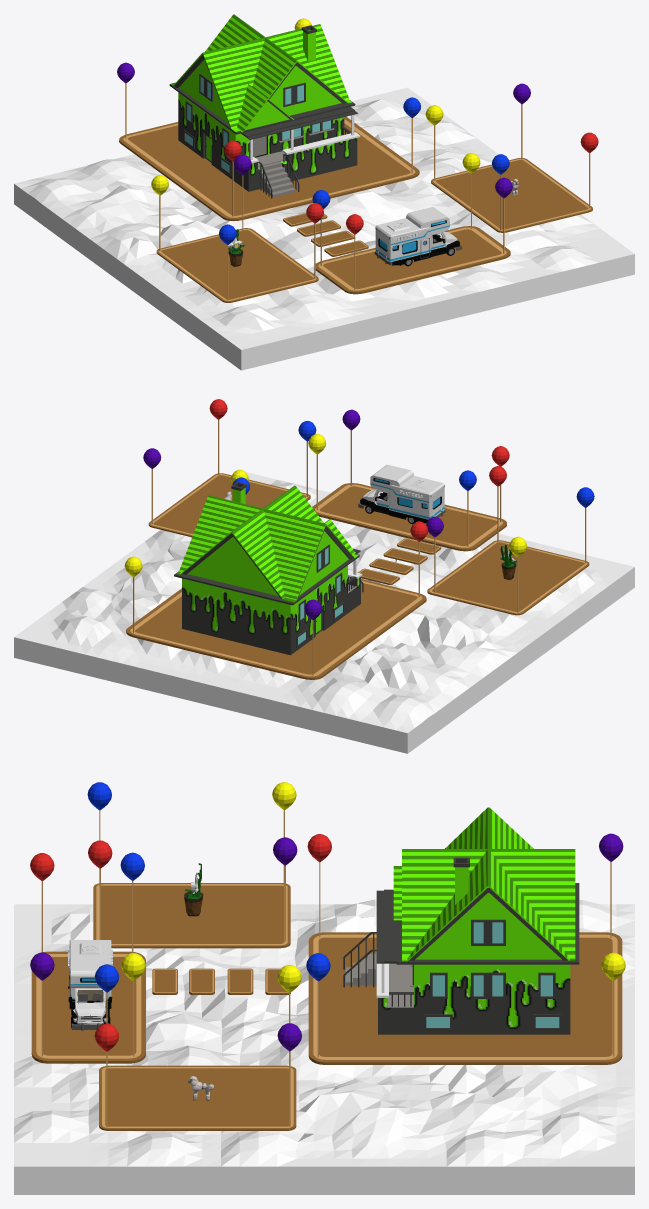
3 views of the same model, one above another, from view 1: azimuth 30°, elevation 25°; view 2: azimuth 150°, elevation 25°; view 3: azimuth 270°, elevation 25° (orthographic). The views are drawn at different scales.
Visible parts, largest first — view 1: Cube.013, Cube.754, VEHICLES_CAMPER; view 2: Cube.013, Cube.754, VEHICLES_CAMPER; view 3: Cube.013, Cube.754, VEHICLES_CAMPER, OBJRANDOM_MONJA BLANCA.
Part boxes in pixels (x1,y1,x2,y2): Cube.013: [14, 18, 634, 370]; Cube.754: [169, 14, 360, 198]; VEHICLES_CAMPER: [374, 207, 461, 266]; Cube.013: [14, 399, 634, 753]; Cube.754: [174, 482, 363, 655]; VEHICLES_CAMPER: [358, 464, 445, 524]; Cube.013: [14, 782, 634, 1194]; Cube.754: [343, 807, 579, 1034]; VEHICLES_CAMPER: [68, 940, 112, 1030]; OBJRANDOM_MONJA BLANCA: [184, 863, 203, 916].
Size of the model in its own units: 4000 by 1839 by 4000.
Materials: 34 (2 with a texture image).
